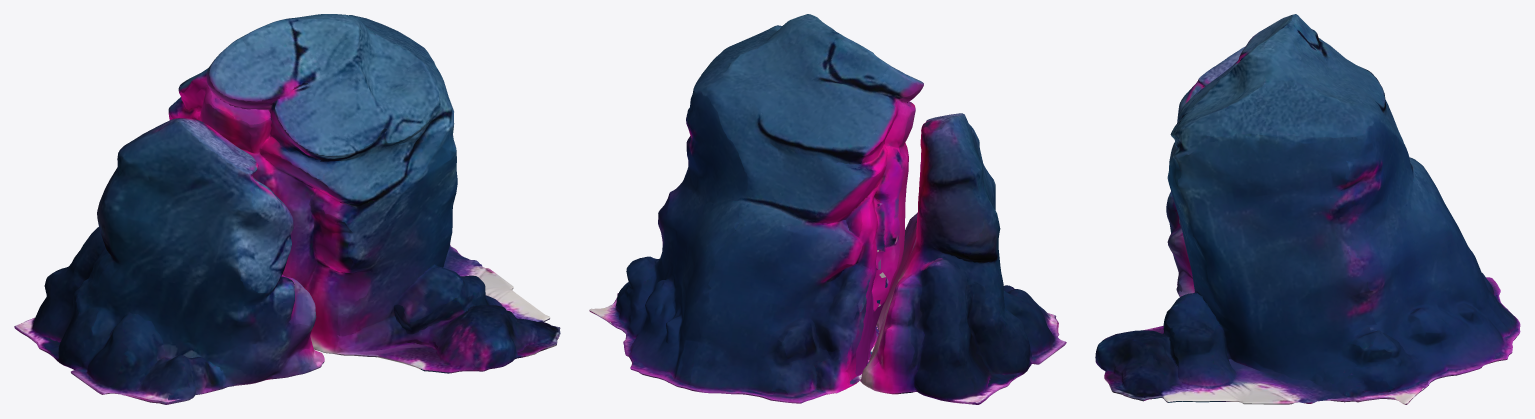
Rendered from shore-stone-13-generated-2026-05-17T20-28-41-090Z.medium.glb.
The picture shows the model from 3 angles, left to right: view 1: azimuth 30°, elevation 25°; view 2: azimuth 150°, elevation 25°; view 3: azimuth 270°, elevation 25°; orthographic projection. The views are drawn at different scales.
Visible parts, largest first — view 1: temp_mesh.ply; view 2: temp_mesh.ply; view 3: temp_mesh.ply.
Boxes of the visible parts, left/top/right/bottom form: temp_mesh.ply: left=14, top=14, right=560, bottom=404; temp_mesh.ply: left=589, top=14, right=1066, bottom=404; temp_mesh.ply: left=1095, top=14, right=1520, bottom=404.
Bounding box in the file's own units: 1.97 × 1.36 × 1.82.
Materials: 1 (1 with a texture image).
